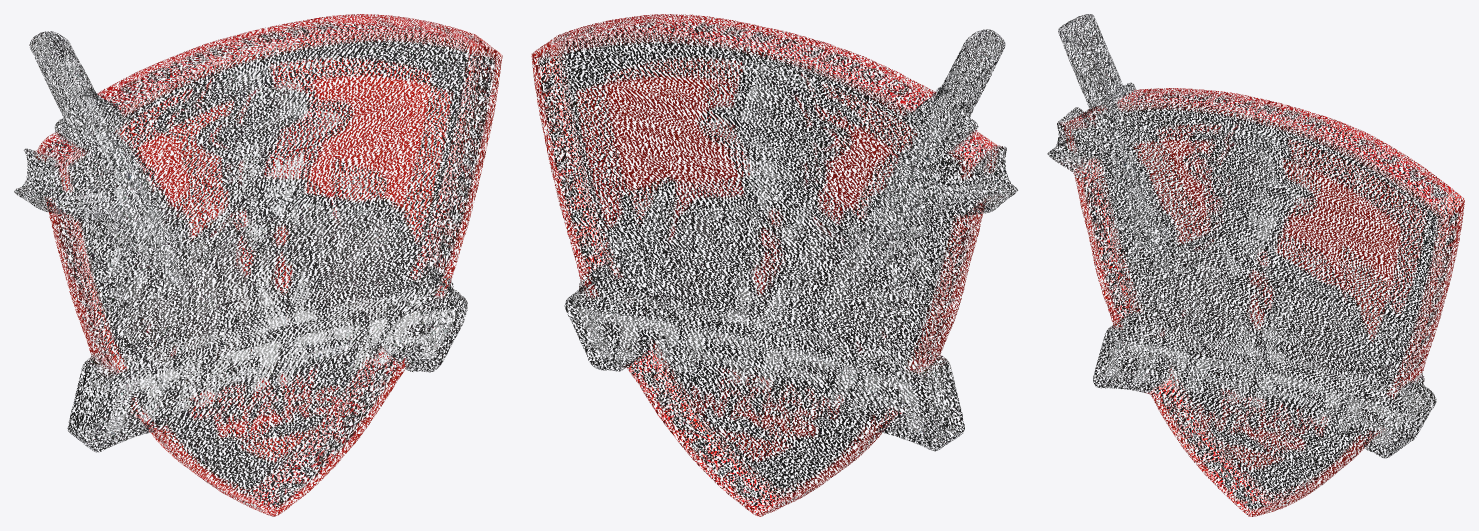
File: mafia-emblem.glb
3 renders of one model, left to right at view 1: azimuth 30°, elevation 25°; view 2: azimuth 150°, elevation 25°; view 3: azimuth 330°, elevation 25°, orthographic. The views are drawn at different scales.
Bounding box in the file's own units: 1.86 × 2 × 0.1854.
1 material, 1 textured.
